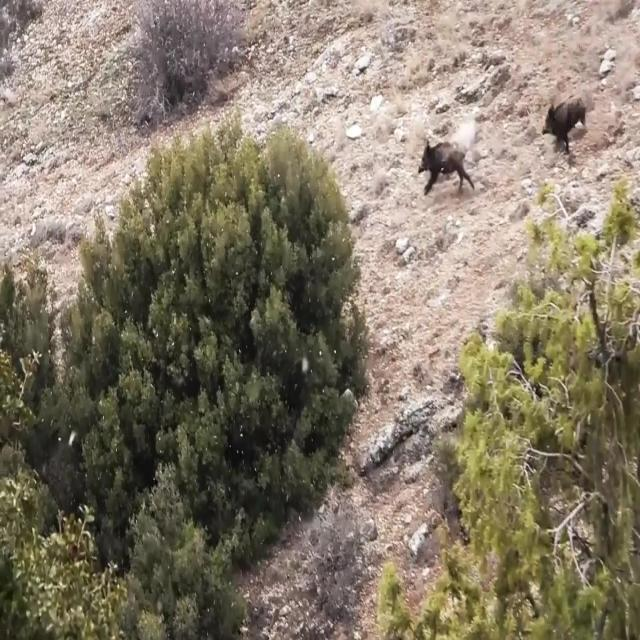pig: (516, 75, 593, 165), (405, 107, 471, 199)
